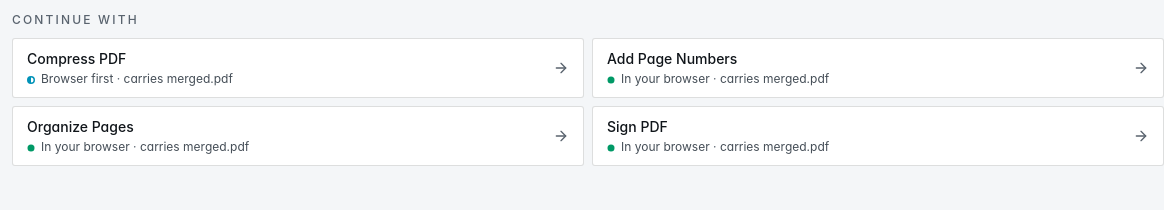
Test: Continue with › says so, with the plain link, when the browser will not store the file
Click the link "Compress PDF Browser first · carries merged.pdf": click(72, 58) [12, 38, 584, 98]
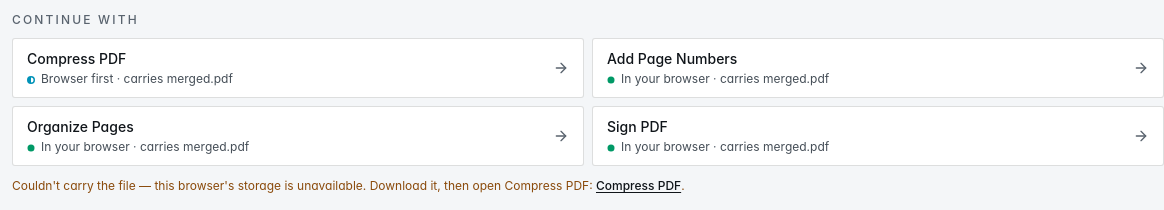
Expected: the message shows "couldn't carry the file — this browser's storage is unavailable. download it, then open compress pdf", [12, 178, 685, 193]
Expected: the link "Compress PDF" is shown, [596, 178, 681, 193]
